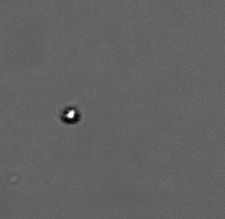Living Cell: (60, 107, 79, 123)
